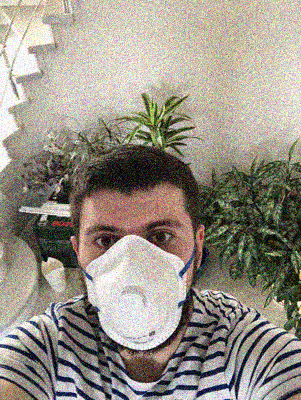with_mask: (80, 203, 190, 355)
